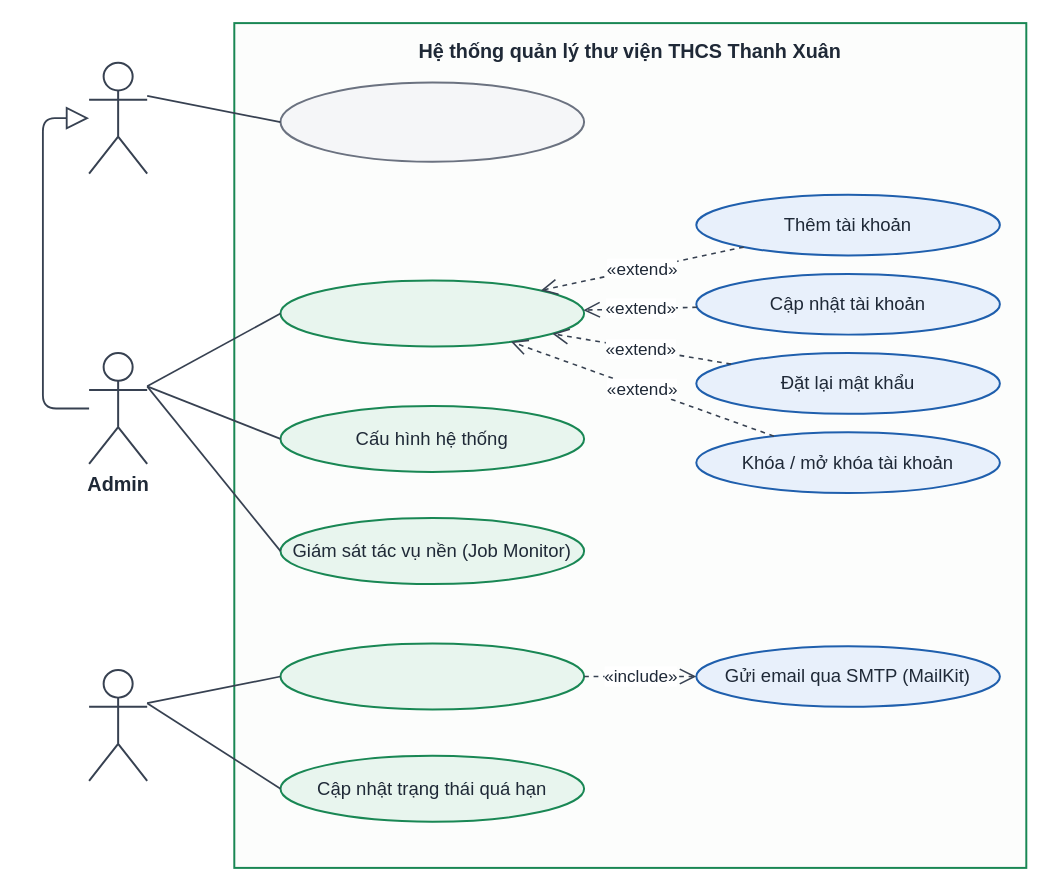
Image size: 1051x892. Some labels were removed from this diagram. Here are the shapes that lost their labels. From the top down, the box of each, then its label:
(88, 61, 148, 174): Nhân viên
(279, 81, 584, 162): Các use case nghiệp vụ của Nhân viên (Hình 2.1)
(279, 279, 584, 347): Quản lý tài khoản
(279, 642, 584, 710): Gửi email nhắc hạn trả
(88, 668, 148, 781): «system» Hangfire
